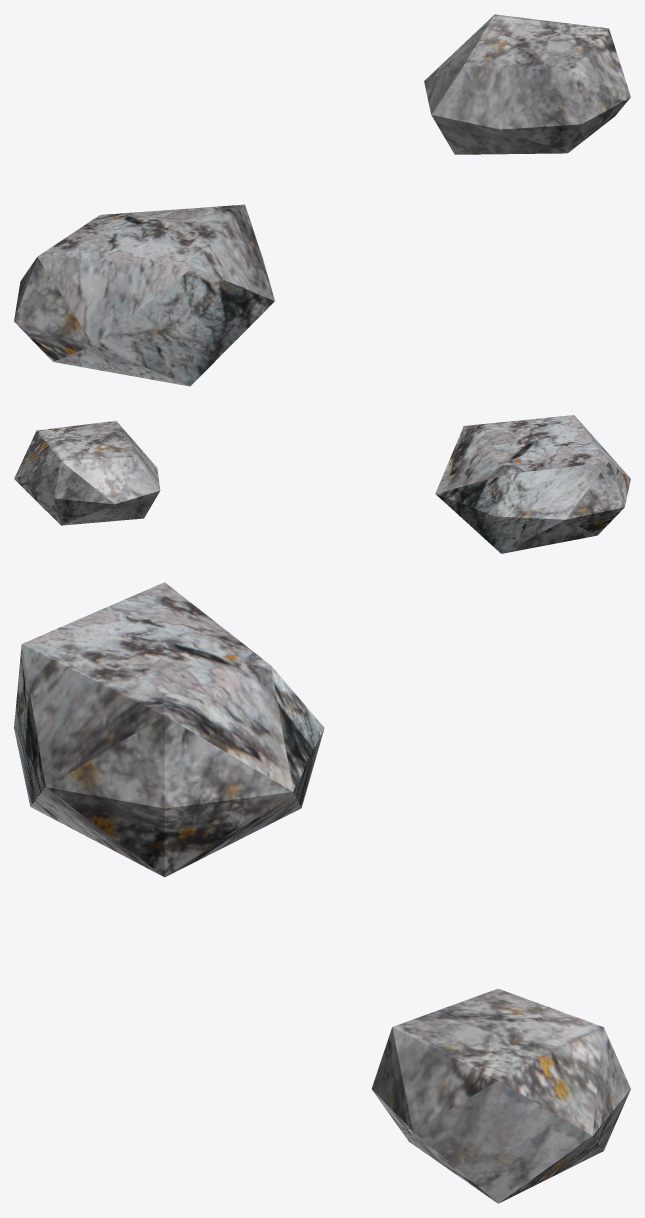
File: pebble_bed_mid.gltf
3 renders of one model, top to bottom at view 1: azimuth 30°, elevation 25°; view 2: azimuth 150°, elevation 25°; view 3: azimuth 270°, elevation 25°, orthographic. The views are drawn at different scales.
Parts seen in each view (by area): view 1: pebble_bed_mid; view 2: pebble_bed_mid; view 3: pebble_bed_mid.
Part boxes in pixels (left/top/right/bottom): pebble_bed_mid: left=14, top=14, right=630, bottom=386; pebble_bed_mid: left=14, top=415, right=630, bottom=553; pebble_bed_mid: left=14, top=582, right=630, bottom=1203.
Size of the model in its own units: 0.6633 by 0.1188 by 0.3649.
Materials: 1 (1 with a texture image).
